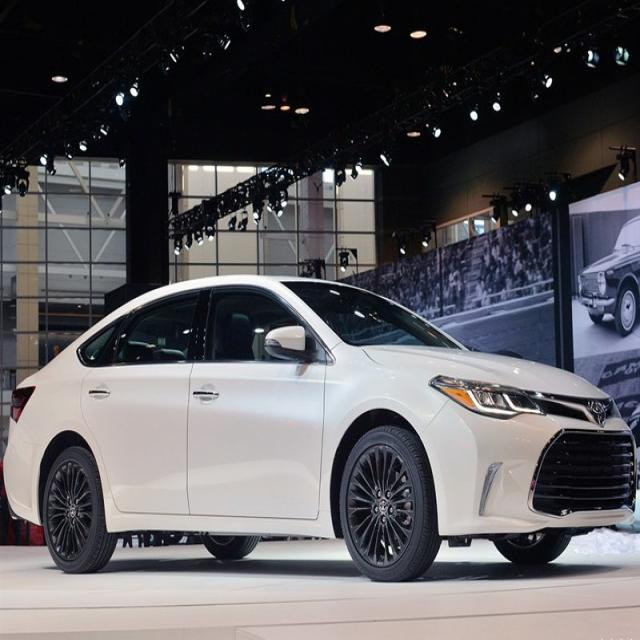back_right_side_light: (9, 384, 37, 424)
door: (81, 285, 210, 529)
front_bumper: (418, 395, 638, 537)
front_glass: (282, 278, 466, 351)
front_right_side_door: (185, 282, 328, 524)
front_right_side_light: (428, 372, 547, 422)
front_right_side_mirror: (263, 325, 315, 362)
wheel: (338, 428, 441, 581), (42, 447, 112, 573)
